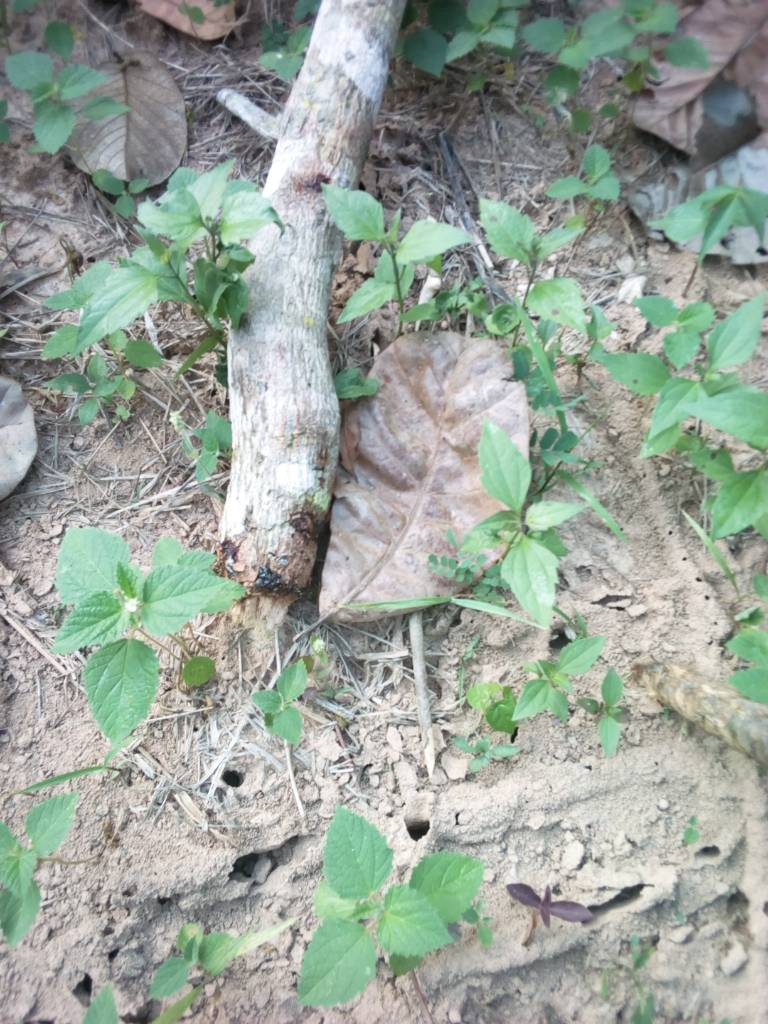Analepse trifasciata: (200, 528, 329, 608)
